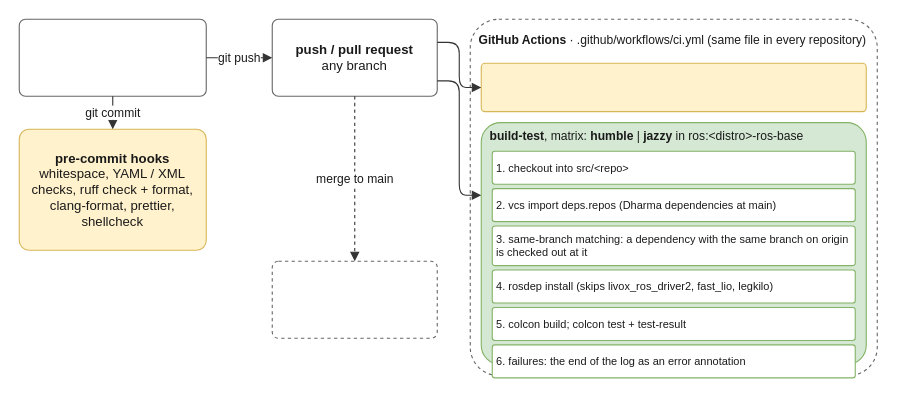
The diagram is 897 pixels wide and 397 high, and some of its shapes have lost their labels. The box of each missing label's shape, as (x1, y1, x2, y2) in pixels:
developer pre-commit install: the same hooks run before every commit: (18, 18, 206, 96)
lint (ubuntu-24.04) pre-commit run --all-files: (480, 62, 866, 112)
release SemVer tag; products pin versions in their .repos: (271, 260, 437, 338)
